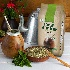guampa: (1, 16, 24, 58)
